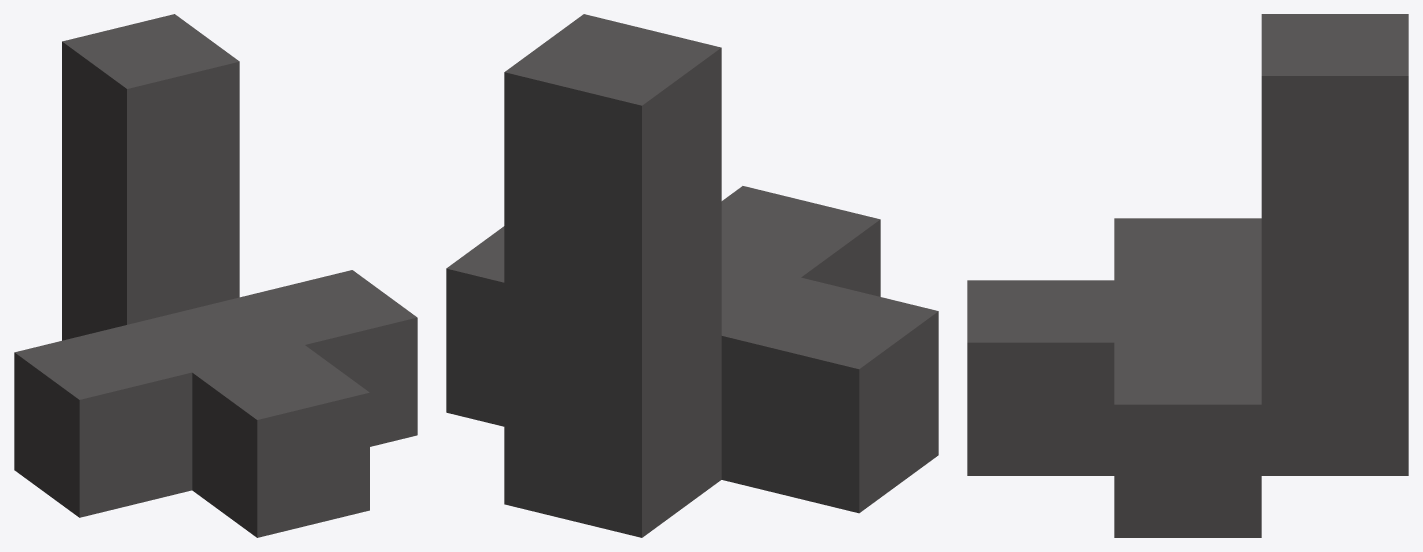
Rendered from parrot__leg_r.glb.
3 views of the same model, side by side, from view 1: azimuth 30°, elevation 25°; view 2: azimuth 150°, elevation 25°; view 3: azimuth 270°, elevation 25° (orthographic). The views are drawn at different scales.
Parts seen in each view (by area): view 1: parrot__leg_r; view 2: parrot__leg_r; view 3: parrot__leg_r.
Part boxes in pixels (box(x1,y1,x2,y2)): parrot__leg_r: box(14, 14, 417, 537); parrot__leg_r: box(446, 14, 938, 537); parrot__leg_r: box(967, 14, 1408, 537).
Bounding box in the file's own units: 0.3 × 0.3 × 0.3.
Materials: 1 (1 with a texture image).
